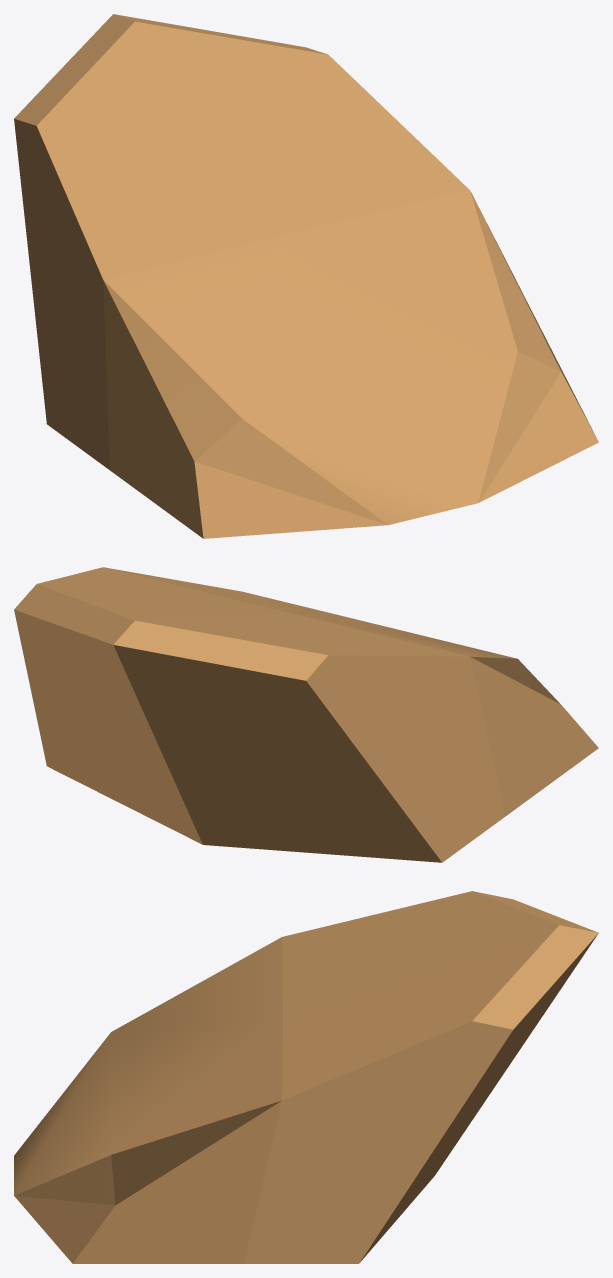
File: decoration_stone_08.glb
3 views of the same model, one above another, from view 1: azimuth 30°, elevation 25°; view 2: azimuth 150°, elevation 25°; view 3: azimuth 270°, elevation 25° (orthographic). The views are drawn at different scales.
Parts seen in each view (by area): view 1: Plane.071; view 2: Plane.071; view 3: Plane.071.
Part boxes in pixels (x1=…): Plane.071: x1=14, y1=14, x2=598, y2=538; Plane.071: x1=14, y1=567, x2=598, y2=862; Plane.071: x1=14, y1=891, x2=598, y2=1263.
Bounding box in the file's own units: 13.13 × 8.7 × 18.41.
1 material, 1 textured.
